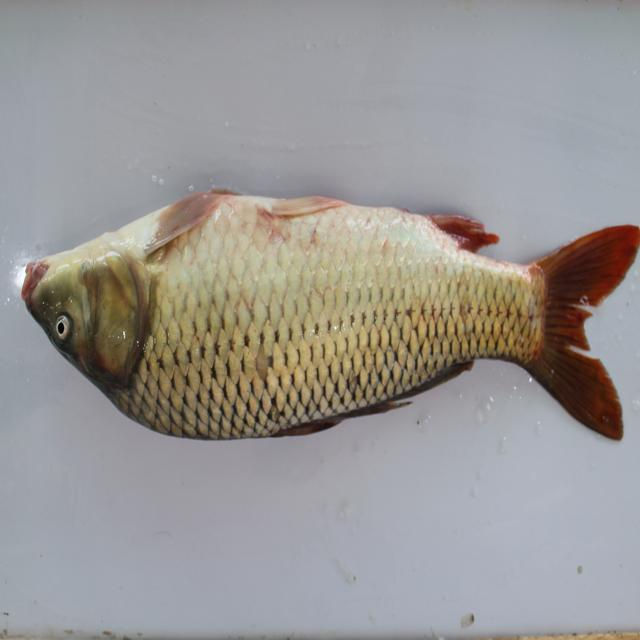CommonCarp: (18, 164, 640, 468)
